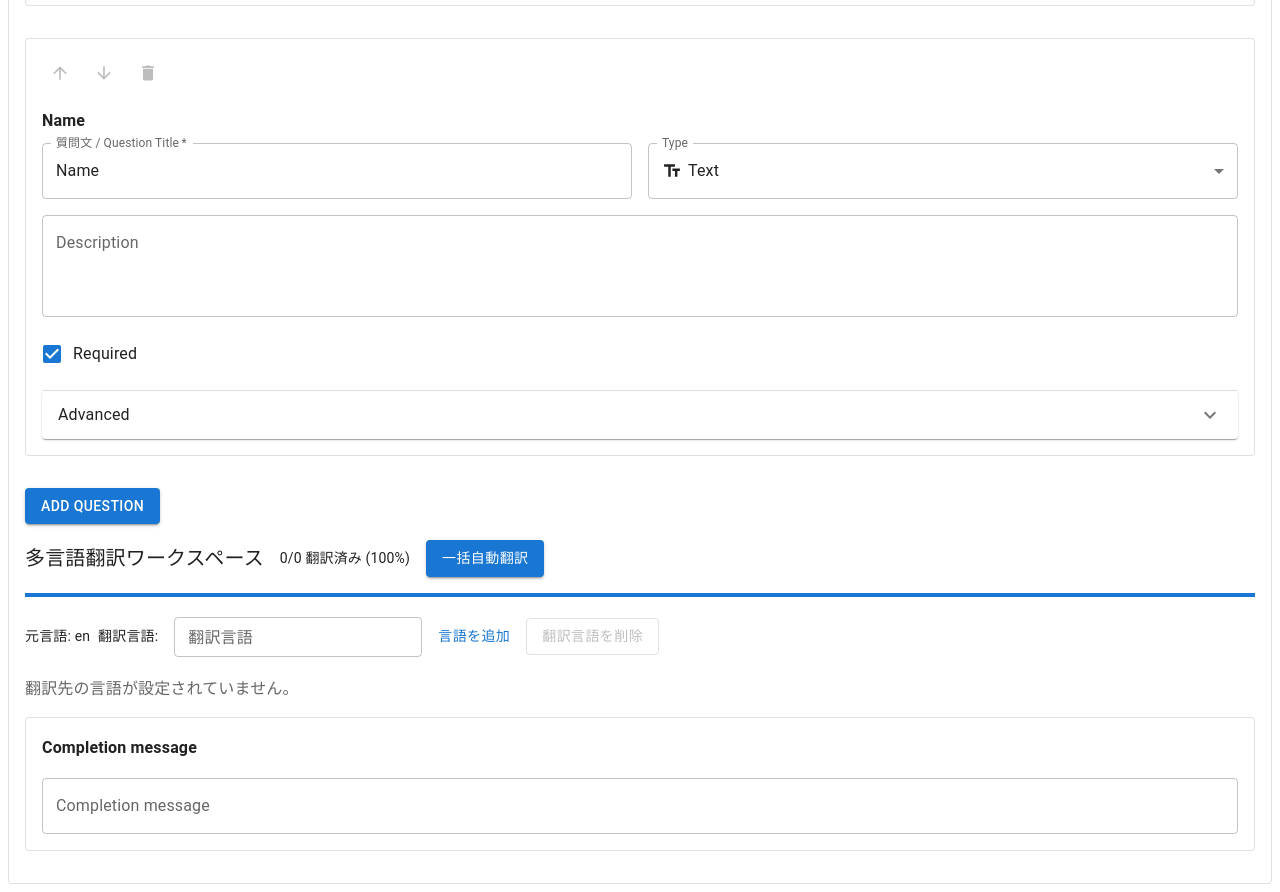
Scenario: MUI localization UX › renders the translation workspace inline and persists edits
This screenshot has width=1280, height=892.
(page scrolled)
Expected: the element with test id "translation-workspace" is shown, [25,540,1255,700]
In the field labelled "翻訳言語": (298, 636) [174,616,422,656], type "fr"
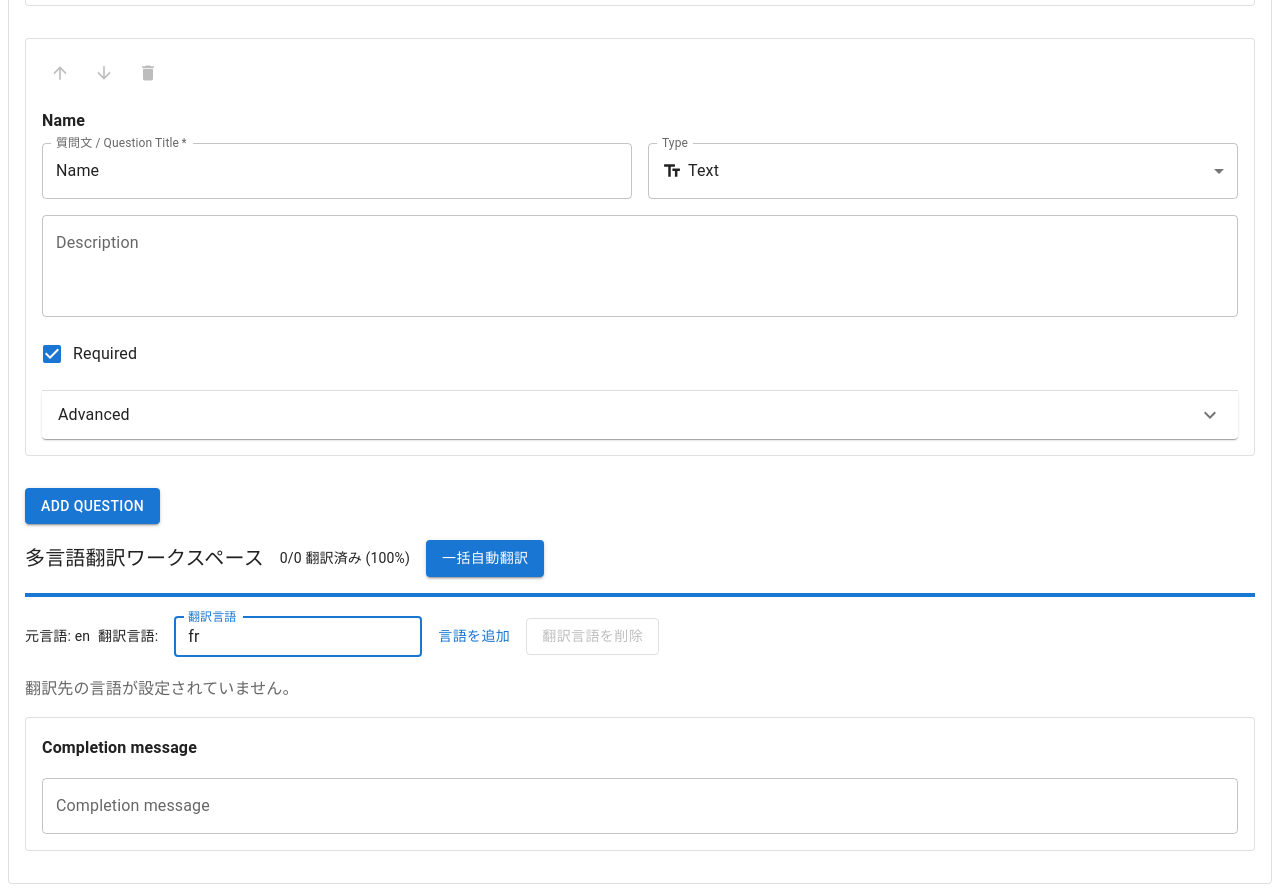
Click the button "言語を追加": (474, 637) [430,618,518,655]
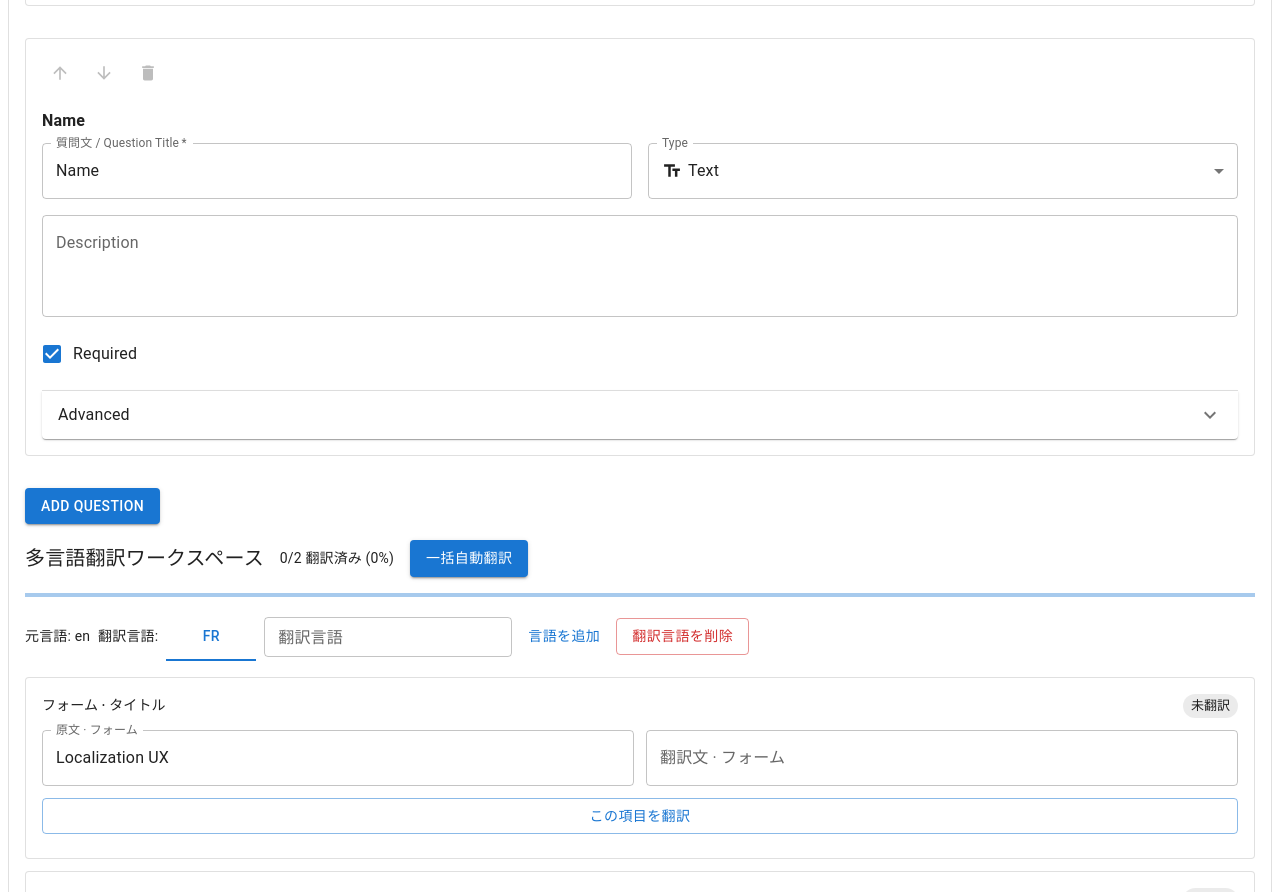
Now the tab "fr" is shown, box [166,612,256,660]
